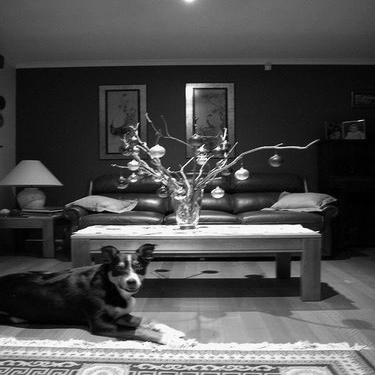dog: (1, 235, 193, 351)
